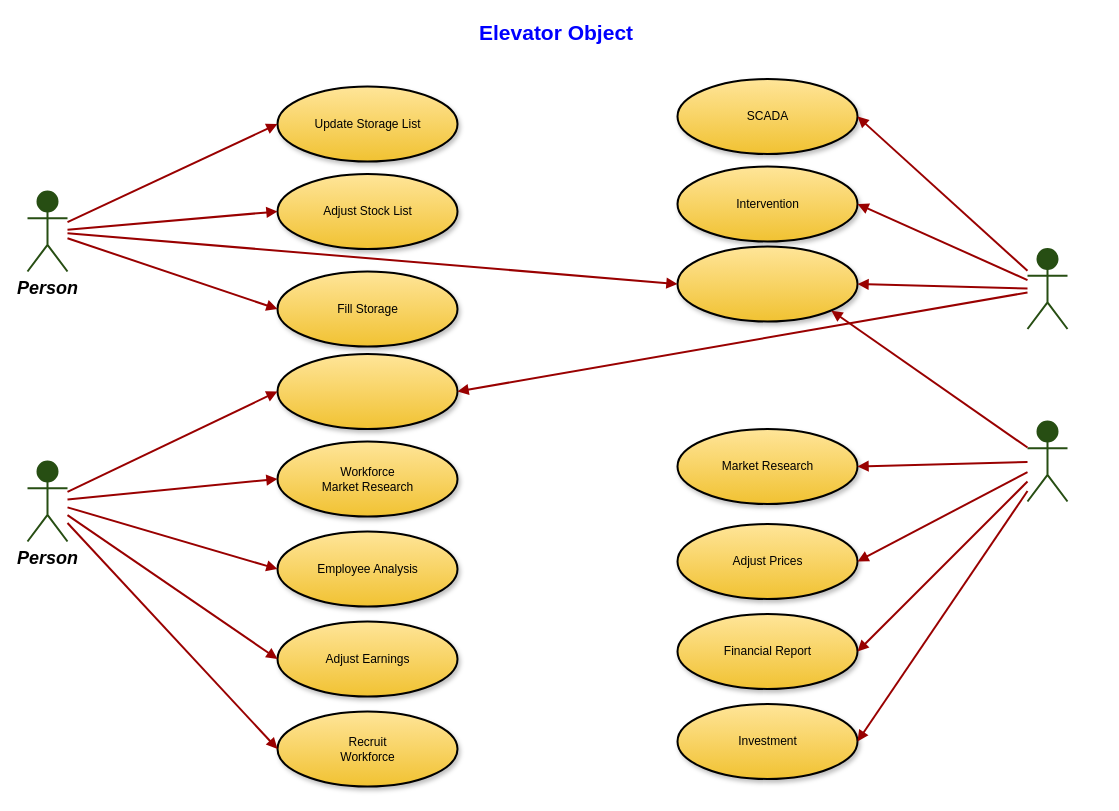
The diagram is 1119 pixels wide and 811 high, and some of its shapes have lost their labels. Each missing label, with the centre of its shape:
"Form Order List" goes at point 768,285.
"Form Request Criteria" goes at point 368,392.
"Maintenance" goes at point 1047,289.
"Office of Sales" goes at point 1047,461.
